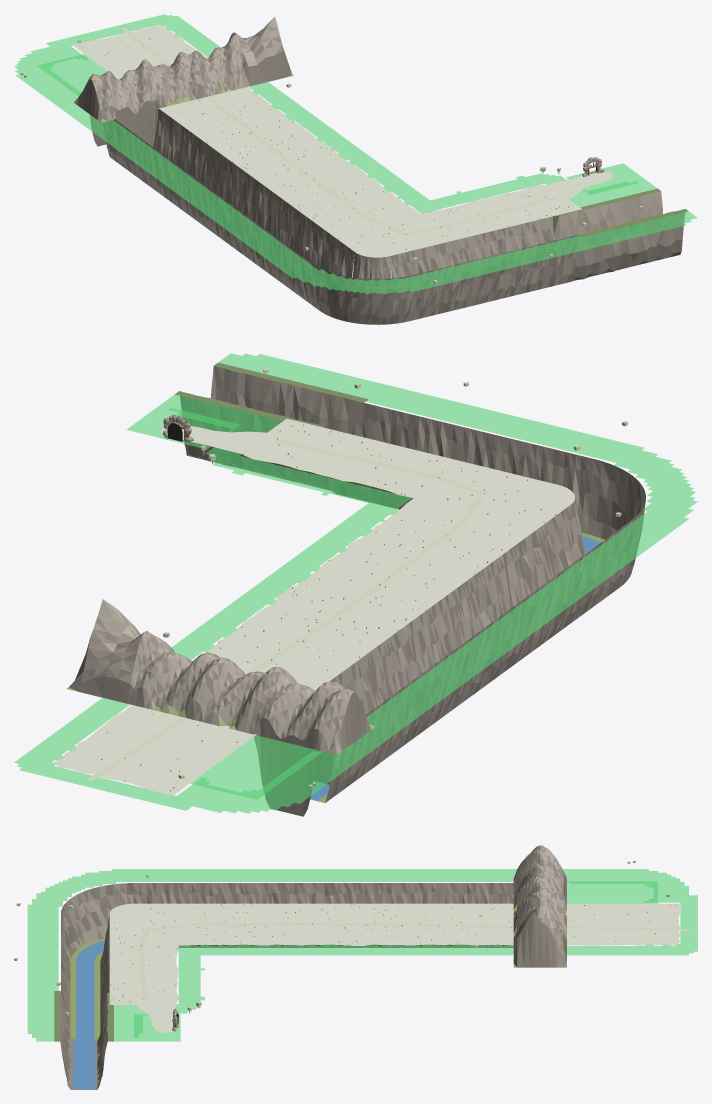
File: codo.glb
The picture shows the model from 3 angles, top to bottom: view 1: azimuth 30°, elevation 25°; view 2: azimuth 150°, elevation 25°; view 3: azimuth 270°, elevation 25°; orthographic projection. The views are drawn at different scales.
Visible parts, largest first — view 1: CodoMeadow, AutoForest_Codo, CodoOesteCanyon, CodoSurCanyon, CodoCierreRock, CodoEsteCanyon, CodoEsquinaCanyon, CodoPath, AutoForest_CodoNorte, AutoForest_CodoCueva, CodoCuevaMeadow; view 2: CodoMeadow, AutoForest_Codo, CodoOesteCanyon, CodoCierreRock, CodoEsteCanyon, CodoSurCanyon, CodoEsquinaCanyon, AutoForest_CodoNorte, CodoPath, AutoForest_CodoCueva, CodoCuevaMeadow; view 3: CodoMeadow, AutoForest_Codo, CodoOesteCanyon, CodoCierreRock, CodoEsquinaCanyon, CodoSurCanyon, AutoForest_CodoNorte, CodoEsteCanyon, CodoRio, CodoPath, CodoEsteRio, AutoForest_CodoCueva (+1 smaller).
Part boxes in pixels (<box>): CodoMeadow: <box>73,25,581,257</box>; AutoForest_Codo: <box>14,14,697,294</box>; CodoOesteCanyon: <box>103,108,354,310</box>; CodoSurCanyon: <box>390,216,577,320</box>; CodoCierreRock: <box>74,17,293,146</box>; CodoEsteCanyon: <box>552,188,688,280</box>; CodoEsquinaCanyon: <box>311,252,414,324</box>; CodoPath: <box>122,28,554,234</box>; AutoForest_CodoNorte: <box>37,54,118,95</box>; AutoForest_CodoCueva: <box>566,163,646,194</box>; CodoCuevaMeadow: <box>544,171,613,200</box>; CodoMeadow: <box>52,418,574,795</box>; AutoForest_Codo: <box>14,353,697,813</box>; CodoOesteCanyon: <box>310,505,632,802</box>; CodoCierreRock: <box>66,599,375,816</box>; CodoEsteCanyon: <box>175,362,368,492</box>; CodoSurCanyon: <box>333,403,593,536</box>; CodoEsquinaCanyon: <box>570,459,645,586</box>; AutoForest_CodoNorte: <box>190,735,322,799</box>; CodoPath: <box>87,440,485,780</box>; AutoForest_CodoCueva: <box>126,405,240,449</box>; CodoCuevaMeadow: <box>160,424,275,454</box>; CodoMeadow: <box>109,903,681,1004</box>; AutoForest_Codo: <box>27,869,697,1041</box>; CodoOesteCanyon: <box>133,883,513,947</box>; CodoCierreRock: <box>513,845,566,967</box>; CodoEsquinaCanyon: <box>61,883,133,962</box>; CodoSurCanyon: <box>61,915,109,1039</box>; AutoForest_CodoNorte: <box>567,881,657,903</box>; CodoEsteCanyon: <box>54,991,113,1089</box>; CodoRio: <box>76,940,104,1038</box>; CodoPath: <box>138,923,688,1000</box>; CodoEsteRio: <box>73,1038,95,1089</box>; AutoForest_CodoCueva: <box>134,1014,180,1041</box>.
Size of what is drawn, in the model's own units: 185 by 49.75 by 308.
